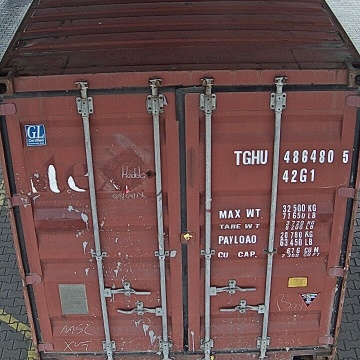serial_id: (234, 149, 348, 164)
